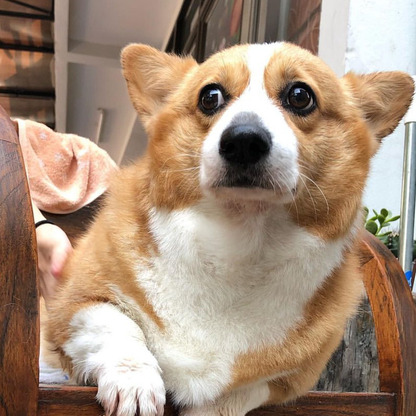Corgi: (108, 44, 405, 397)
